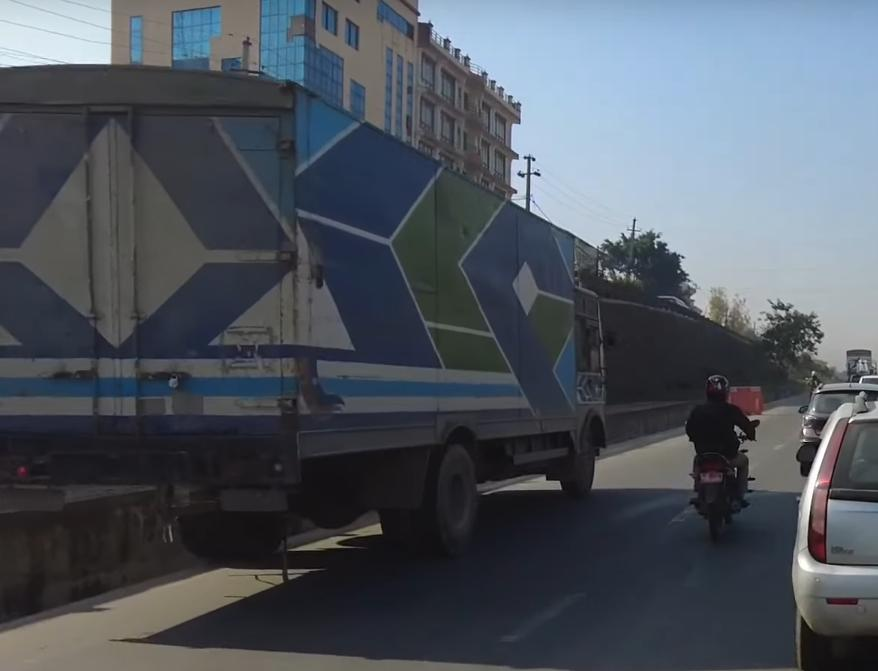bike: (688, 418, 759, 541)
truck: (0, 55, 625, 585)
